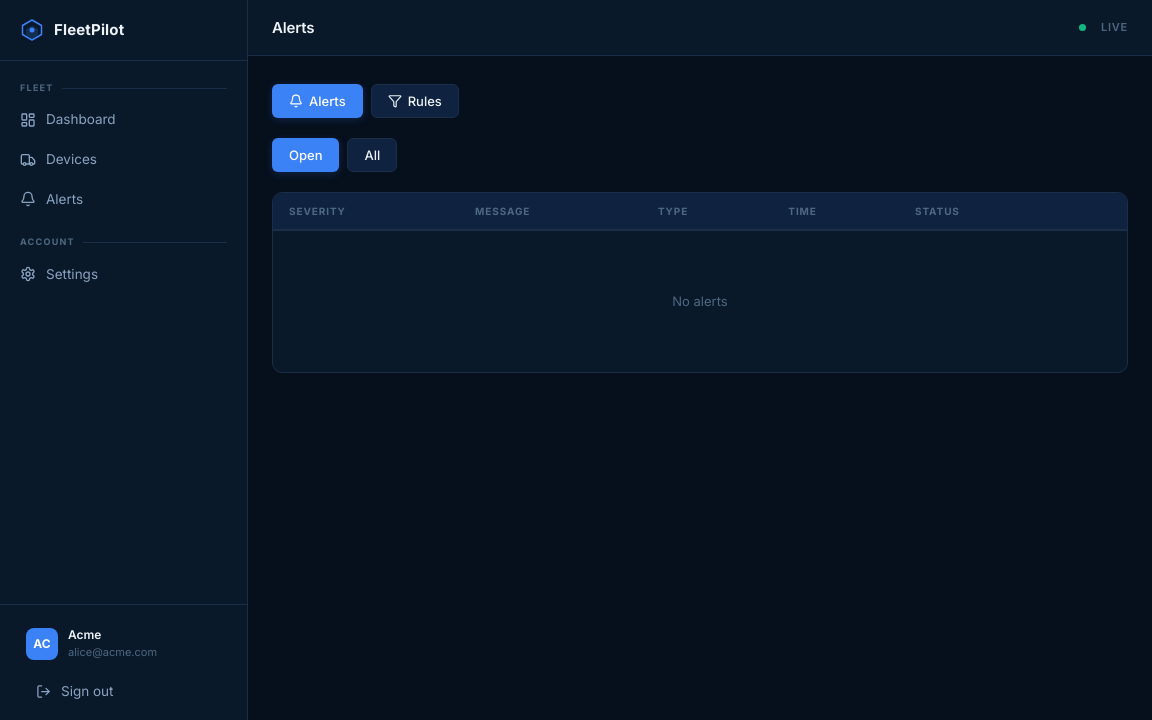
Test: Alerts › shows empty rules state when no rules exist
Click the button "rules". click: (415, 101)
box: [371,84,459,118]
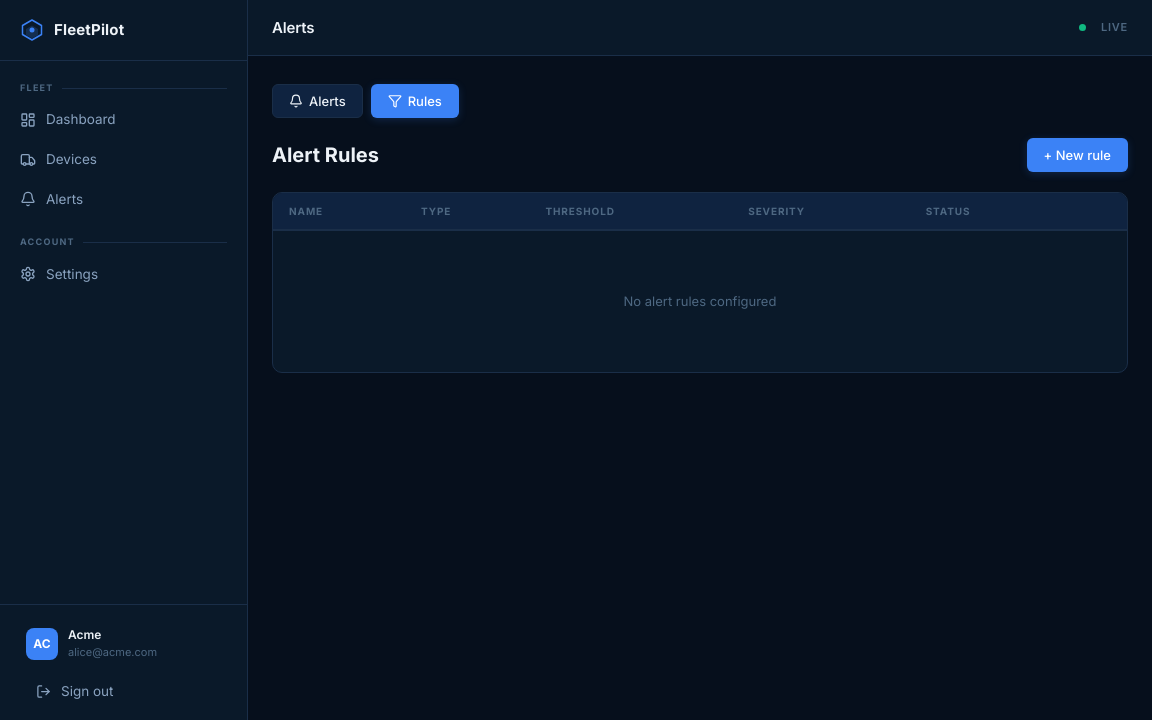
Expected: the text "No alert rules configured" is shown, [624,293,776,309]
